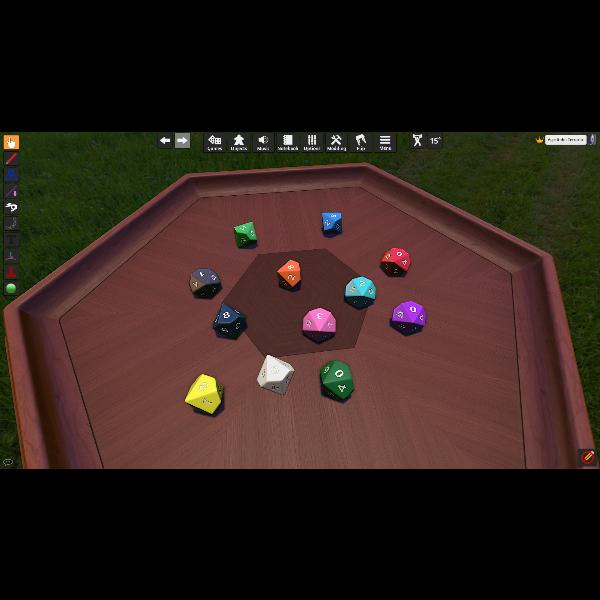d10: (186, 373, 224, 413), (258, 353, 294, 394), (212, 302, 246, 340), (319, 360, 351, 400), (302, 308, 334, 342), (394, 300, 426, 334), (345, 277, 375, 307), (190, 267, 220, 297), (382, 246, 410, 276), (277, 259, 301, 289), (234, 221, 258, 247), (322, 210, 342, 232)
